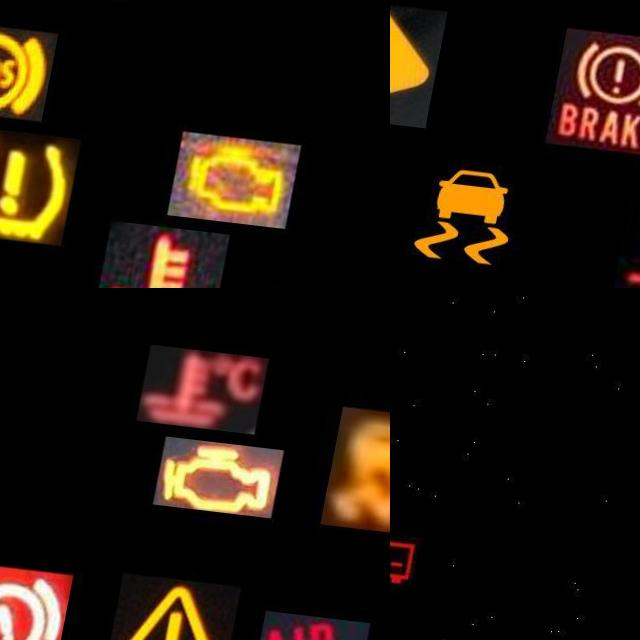Central Warning lamp: (117, 564, 251, 640), (390, 0, 461, 123)
Engine cooling system: (140, 336, 270, 423), (107, 211, 242, 288)
